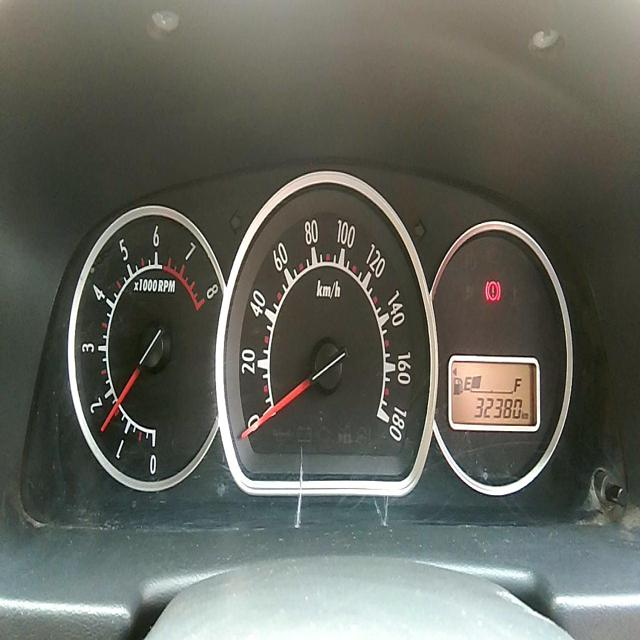odometer: (472, 392, 525, 421)
